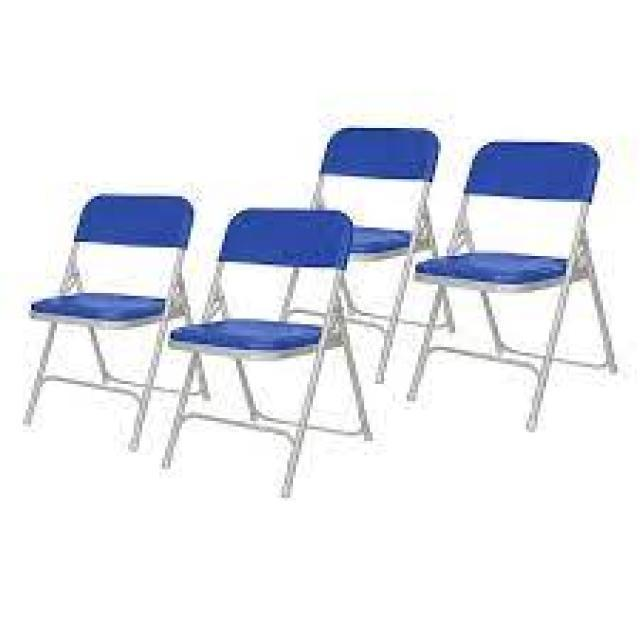chair: (402, 134, 620, 436), (162, 204, 374, 503), (24, 183, 212, 455), (278, 120, 448, 389)
